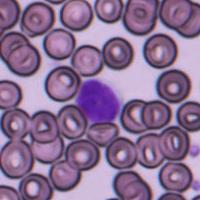L: (75, 76, 122, 124)
